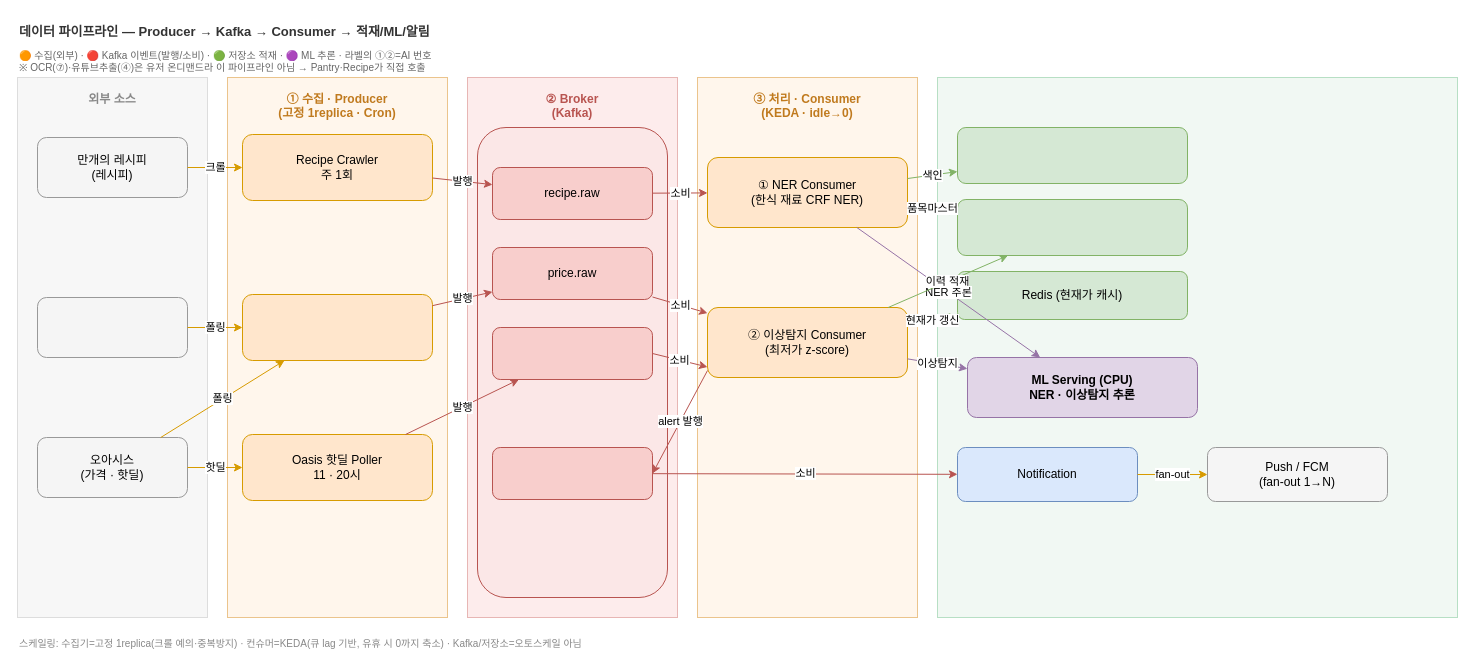
Image size: 1475x668. Some labels were removed from this diagram. The box of each missing label's shape, as (x1, y1, x2, y2) in pixels:
alert.events: (492, 446, 652, 500)
Elasticsearch (레시피 색인): (956, 126, 1188, 184)
hotdeal.raw: (492, 326, 652, 380)
Kafka (KRaft · 이벤트 버스): (476, 126, 668, 598)
PostgreSQL (가격 이력 · 품목마스터): (956, 198, 1188, 256)
Price Poller 일 1~2회: (242, 294, 432, 360)
④ 적재 · 활용: (936, 76, 1458, 618)
마켓컬리 (가격): (36, 296, 188, 358)
